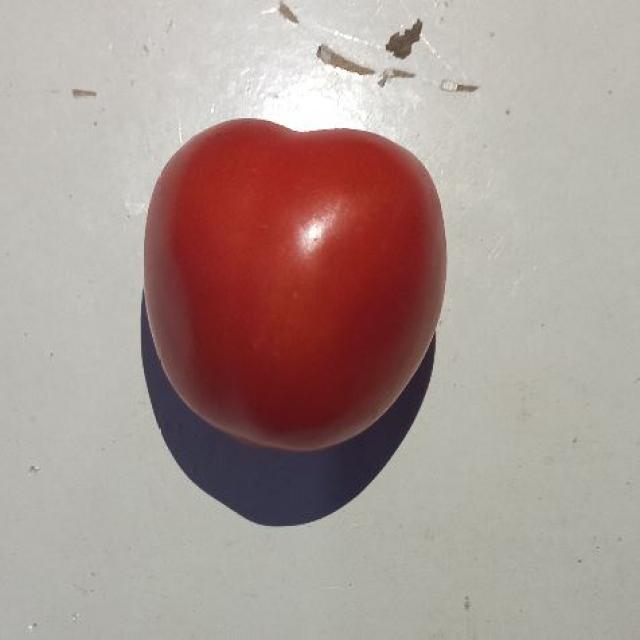ripe tomato: (150, 118, 461, 492)
